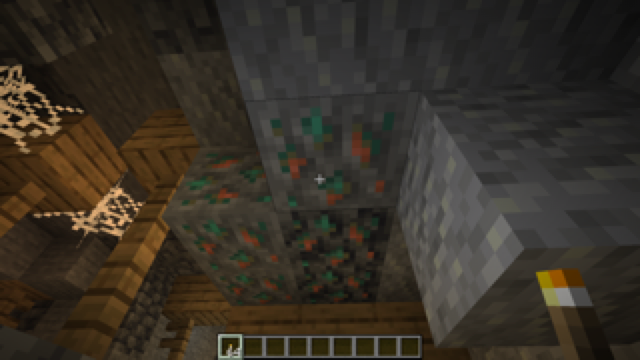copper: (163, 97, 416, 308)
